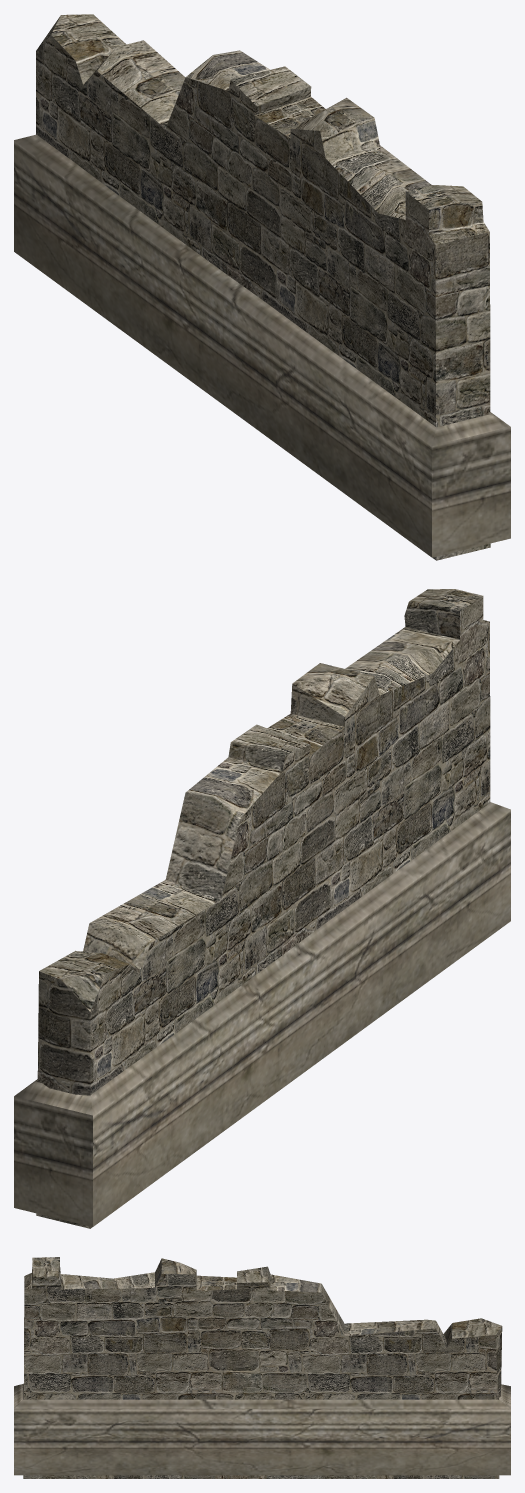
The model's file is SM_EN_2005_qiang02.FBX.
The picture shows the model from 3 angles, top to bottom: view 1: azimuth 30°, elevation 25°; view 2: azimuth 150°, elevation 25°; view 3: azimuth 270°, elevation 25°; orthographic projection. The views are drawn at different scales.
Parts seen in each view (by area): view 1: SM_EN_2005_qiang02b, SM_EN_2005_qiang02a; view 2: SM_EN_2005_qiang02b, SM_EN_2005_qiang02a; view 3: SM_EN_2005_qiang02b, SM_EN_2005_qiang02a.
Part boxes in pixels (<box>): SM_EN_2005_qiang02b: <box>36,14,490,560</box>; SM_EN_2005_qiang02a: <box>14,134,510,557</box>; SM_EN_2005_qiang02b: <box>36,589,490,1228</box>; SM_EN_2005_qiang02a: <box>14,802,510,1226</box>; SM_EN_2005_qiang02b: <box>23,1257,502,1478</box>; SM_EN_2005_qiang02a: <box>14,1383,510,1475</box>.
Bounding box in the file's own units: 22.69 × 96.34 × 208.
